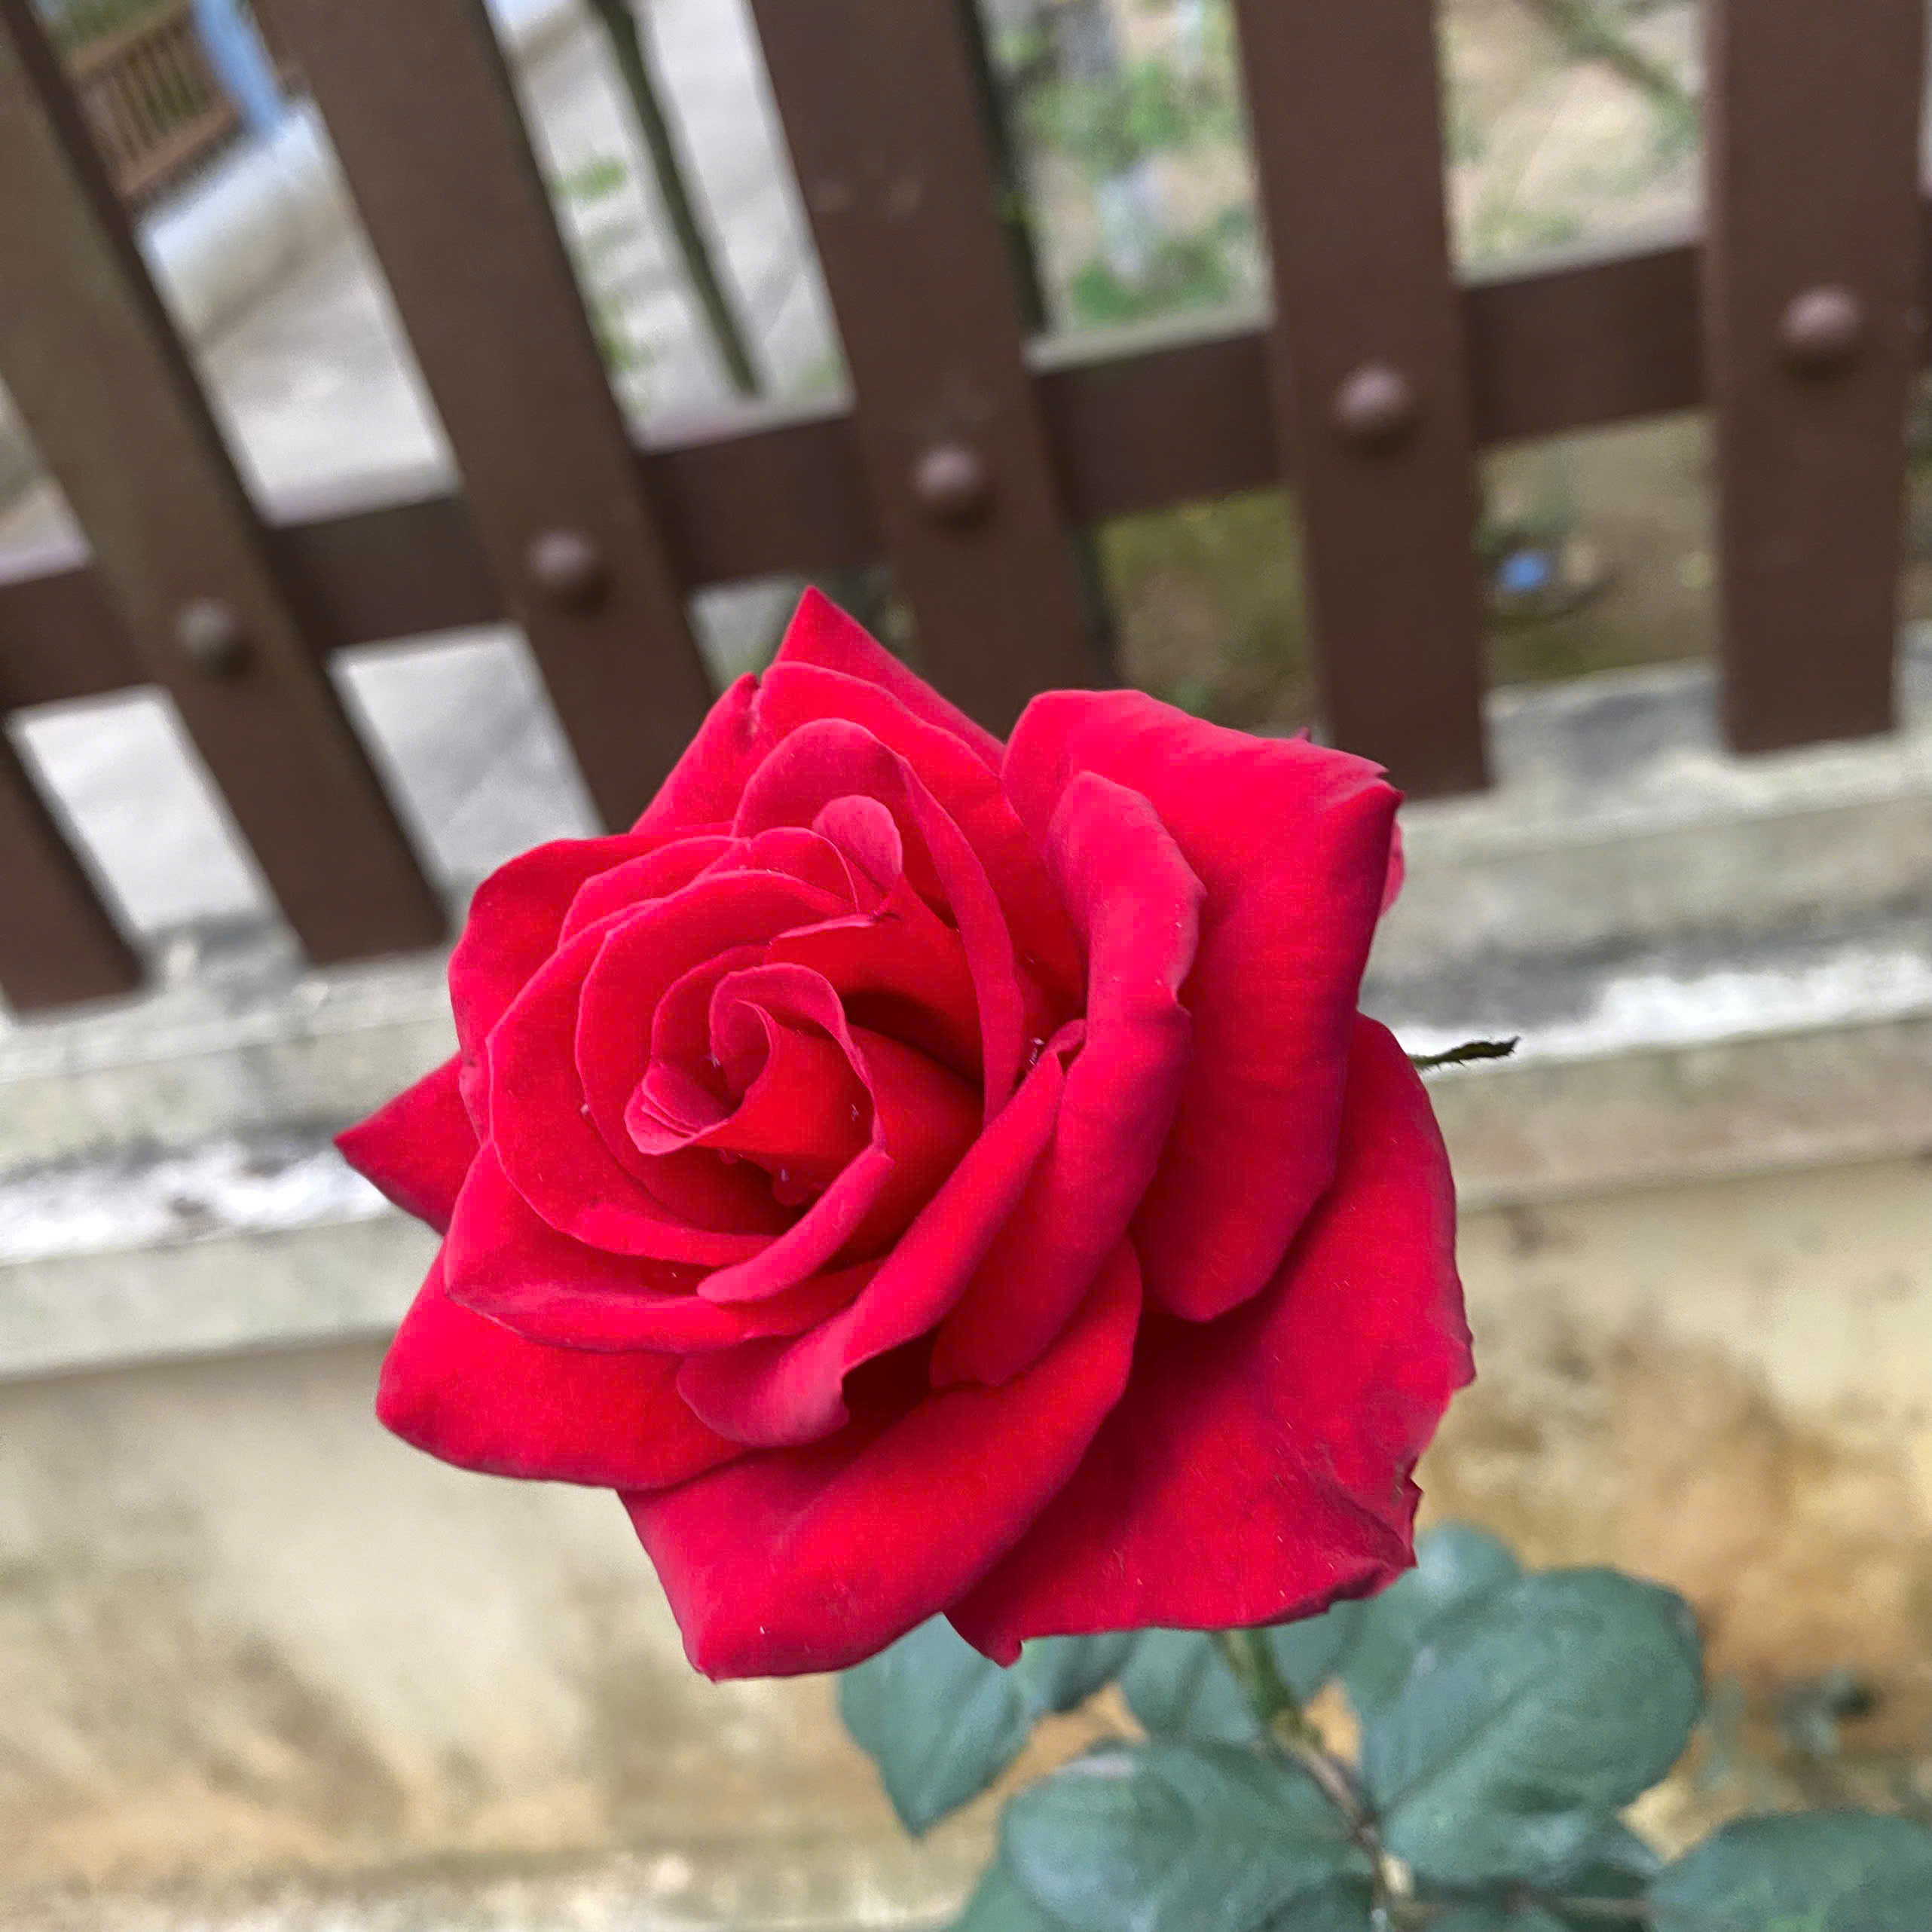hoa_hong_do: (304, 554, 1548, 1690)
